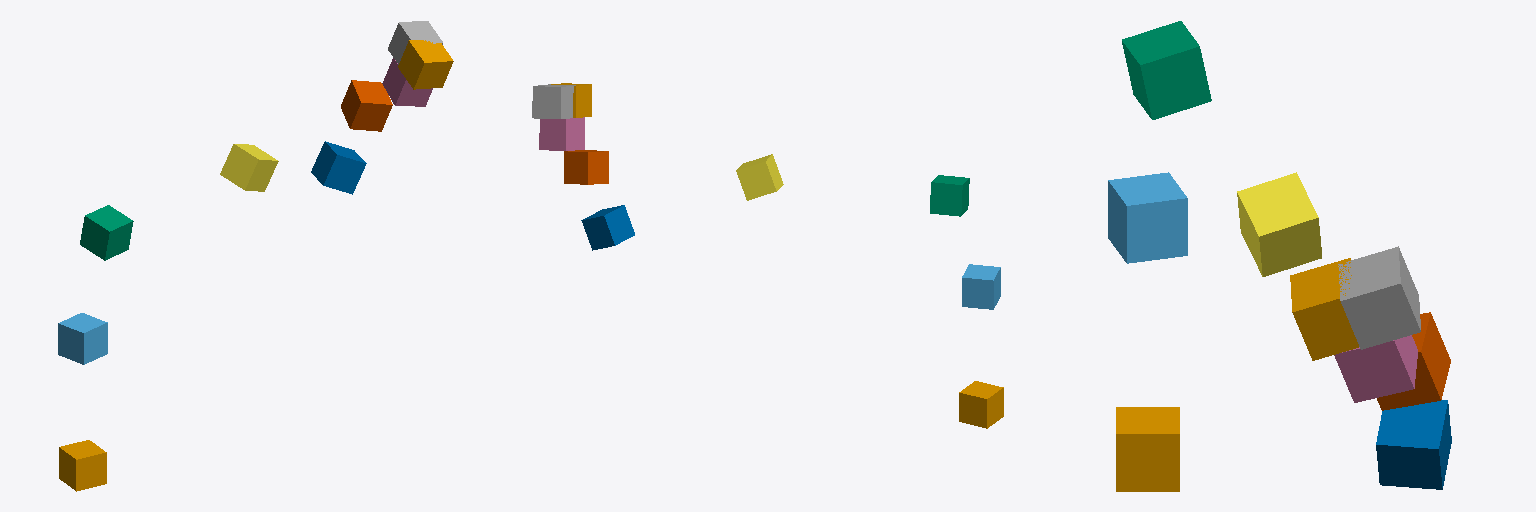
URDF robot description (six_dof_with_gripper):
<?xml version="1.0"?>
<robot name="six_dof_with_gripper">
  <link name="base">
    <inertial><origin xyz="0 0 0.05" rpy="0.1 -0.2 0.3"/><mass value="1.0"/><inertia ixx="0.01" ixy="0.001" ixz="0" iyy="0.02" iyz="0" izz="0.03"/></inertial>
    <visual><geometry><mesh filename="../meshes/cube.stl" scale="0.5 0.5 0.5"/></geometry></visual>
  </link>
  <link name="l1">
    <inertial><origin xyz="0 0.01 0.1" rpy="0.1 -0.2 0.3"/><mass value="2.0"/><inertia ixx="0.01" ixy="0.001" ixz="0" iyy="0.02" iyz="0" izz="0.03"/></inertial>
    <visual><geometry><mesh filename="../meshes/cube.stl" scale="0.5 0.5 0.5"/></geometry></visual>
  </link>
  <link name="l2">
    <inertial><origin xyz="0.15 0 0.02" rpy="0.1 -0.2 0.3"/><mass value="3.0"/><inertia ixx="0.01" ixy="0.001" ixz="0" iyy="0.02" iyz="0" izz="0.03"/></inertial>
    <visual><geometry><mesh filename="../meshes/cube.stl" scale="0.5 0.5 0.5"/></geometry></visual>
  </link>
  <link name="l3">
    <inertial><origin xyz="0.1 0.02 0" rpy="0.1 -0.2 0.3"/><mass value="1.5"/><inertia ixx="0.01" ixy="0.001" ixz="0" iyy="0.02" iyz="0" izz="0.03"/></inertial>
    <visual><geometry><mesh filename="../meshes/cube.stl" scale="0.5 0.5 0.5"/></geometry></visual>
  </link>
  <link name="l4">
    <inertial><origin xyz="0 0 0.08" rpy="0.1 -0.2 0.3"/><mass value="1.2"/><inertia ixx="0.01" ixy="0.001" ixz="0" iyy="0.02" iyz="0" izz="0.03"/></inertial>
    <visual><geometry><mesh filename="../meshes/cube.stl" scale="0.5 0.5 0.5"/></geometry></visual>
  </link>
  <link name="l5">
    <inertial><origin xyz="0.02 0 0.04" rpy="0.1 -0.2 0.3"/><mass value="0.8"/><inertia ixx="0.01" ixy="0.001" ixz="0" iyy="0.02" iyz="0" izz="0.03"/></inertial>
    <visual><geometry><mesh filename="../meshes/cube.stl" scale="0.5 0.5 0.5"/></geometry></visual>
  </link>
  <link name="l6">
    <inertial><origin xyz="0 0.01 0.03" rpy="0.1 -0.2 0.3"/><mass value="0.6"/><inertia ixx="0.01" ixy="0.001" ixz="0" iyy="0.02" iyz="0" izz="0.03"/></inertial>
    <visual><geometry><mesh filename="../meshes/cube.stl" scale="0.5 0.5 0.5"/></geometry></visual>
  </link>
  <link name="finger_l">
    <inertial><origin xyz="0 0.01 0.02" rpy="0.1 -0.2 0.3"/><mass value="0.1"/><inertia ixx="0.01" ixy="0.001" ixz="0" iyy="0.02" iyz="0" izz="0.03"/></inertial>
    <visual><geometry><mesh filename="../meshes/cube.stl" scale="0.5 0.5 0.5"/></geometry></visual>
  </link>
  <link name="finger_r">
    <inertial><origin xyz="0 -0.01 0.02" rpy="0.1 -0.2 0.3"/><mass value="0.12"/><inertia ixx="0.01" ixy="0.001" ixz="0" iyy="0.02" iyz="0" izz="0.03"/></inertial>
    <visual><geometry><mesh filename="../meshes/cube.stl" scale="0.5 0.5 0.5"/></geometry></visual>
  </link>
  <joint name="j1" type="revolute"><parent link="base"/><child link="l1"/><origin xyz="0 0 0.2" rpy="0 0 0.3"/><axis xyz="0 0 1"/><limit lower="-3.0" upper="3.0" effort="10" velocity="1"/></joint>
  <joint name="j2" type="revolute"><parent link="l1"/><child link="l2"/><origin xyz="0.05 0 0.15" rpy="0.2 0 0"/><axis xyz="0 1 0"/><limit lower="-3.0" upper="3.0" effort="10" velocity="1"/></joint>
  <joint name="j3" type="revolute"><parent link="l2"/><child link="l3"/><origin xyz="0.3 0 0" rpy="0 0.4 0"/><axis xyz="0 1 0"/><limit lower="-3.0" upper="3.0" effort="10" velocity="1"/></joint>
  <joint name="j4" type="revolute"><parent link="l3"/><child link="l4"/><origin xyz="0.25 0.02 0" rpy="0 0 -0.5"/><axis xyz="1 0 0"/><limit lower="-3.0" upper="3.0" effort="10" velocity="1"/></joint>
  <joint name="j5" type="revolute"><parent link="l4"/><child link="l5"/><origin xyz="0 0 0.1" rpy="0.3 -0.2 0"/><axis xyz="0 1 0"/><limit lower="-3.0" upper="3.0" effort="10" velocity="1"/></joint>
  <joint name="j6" type="revolute"><parent link="l5"/><child link="l6"/><origin xyz="0.05 0 0.05" rpy="0 0 0.1"/><axis xyz="0.6 0 0.8"/><limit lower="-3.0" upper="3.0" effort="10" velocity="1"/></joint>
  <joint name="jf_l" type="prismatic"><parent link="l6"/><child link="finger_l"/><origin xyz="0 0.02 0.05" rpy="0 0 0.1"/><axis xyz="0 1 0"/><limit lower="0" upper="0.04" effort="10" velocity="0.1"/></joint>
  <joint name="jf_r" type="prismatic"><parent link="l6"/><child link="finger_r"/><origin xyz="0 -0.02 0.05" rpy="0 0 0.1"/><axis xyz="0 -1 0"/><limit lower="0" upper="0.04" effort="10" velocity="0.1"/><mimic joint="jf_l" multiplier="1" offset="0"/></joint>
</robot>

--- Render facts (derived) ---
3 views of the same robot in one strip: view 1: azimuth 30°, elevation 25°; view 2: azimuth 150°, elevation 25°; view 3: azimuth 270°, elevation 25° (orthographic).
Model six_dof_with_gripper with 9 links and 8 joints (6 revolute, 2 prismatic), rooted at base, posed every joint at zero.
Links seen in each view (by area): view 1: l2, l1, finger_r, l5, base, l3, l4, l6, finger_l; view 2: base, l4, l1, l5, l2, l6, l3, finger_l, finger_r; view 3: l3, l1, finger_l, l2, l4, base, finger_r, l6, l5.
Boxes of the visible links, bbox=[...] form: l2: bbox=[80, 205, 133, 260]; l1: bbox=[58, 313, 107, 364]; finger_r: bbox=[398, 40, 453, 89]; l5: bbox=[341, 80, 392, 131]; base: bbox=[59, 440, 106, 491]; l3: bbox=[220, 144, 278, 191]; l4: bbox=[311, 141, 366, 194]; l6: bbox=[382, 58, 432, 106]; finger_l: bbox=[388, 21, 442, 64]; base: bbox=[959, 381, 1003, 428]; l4: bbox=[581, 205, 634, 250]; l1: bbox=[962, 264, 1000, 309]; l5: bbox=[564, 150, 608, 184]; l2: bbox=[930, 175, 969, 216]; l6: bbox=[539, 117, 584, 150]; l3: bbox=[736, 154, 783, 200]; finger_l: bbox=[532, 84, 575, 118]; finger_r: bbox=[551, 83, 591, 117]; l3: bbox=[1237, 172, 1321, 276]; l1: bbox=[1108, 172, 1187, 263]; finger_l: bbox=[1338, 246, 1420, 349]; l2: bbox=[1122, 21, 1211, 119]; l4: bbox=[1376, 400, 1451, 489]; base: bbox=[1116, 407, 1179, 491]; finger_r: bbox=[1290, 258, 1358, 360]; l6: bbox=[1334, 335, 1417, 402]; l5: bbox=[1377, 312, 1450, 410].
Bounding box of the posed robot: 0.7153 × 0.2698 × 0.4965 m (x, y, z).
Meshes: 1 distinct files referenced, 9 mesh visuals loaded (1 ASCII STL).
